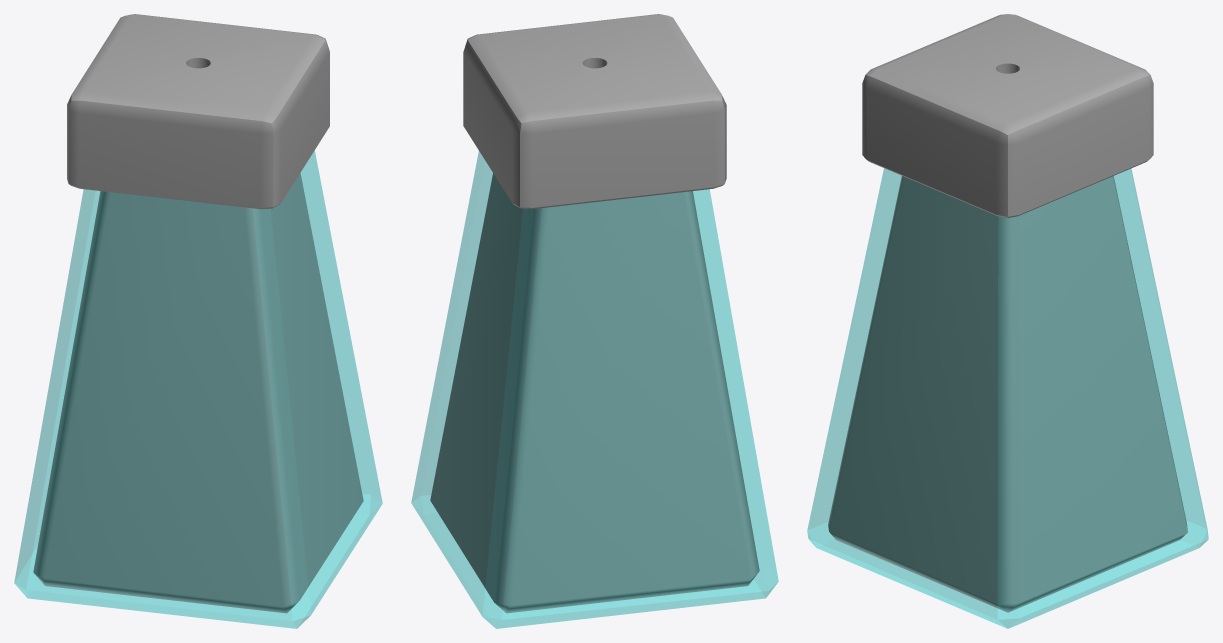
File: SM_SaltShaker.fbx
3 renders of one model, left to right at view 1: azimuth 30°, elevation 25°; view 2: azimuth 150°, elevation 25°; view 3: azimuth 270°, elevation 25°, orthographic. The views are drawn at different scales.
Visible parts, largest first — view 1: glass, contents, Salt; view 2: glass, contents, Salt; view 3: glass, contents, Salt.
Boxes of the visible parts, x1,y1,x2,y2 form: glass: [14, 151, 382, 628]; contents: [33, 173, 363, 613]; Salt: [67, 14, 329, 209]; glass: [411, 151, 778, 628]; contents: [430, 173, 759, 613]; Salt: [463, 14, 726, 209]; glass: [807, 168, 1208, 628]; contents: [828, 176, 1187, 612]; Salt: [862, 14, 1153, 217].
Bounding box in the file's own units: 33.09 × 43.58 × 33.09.
